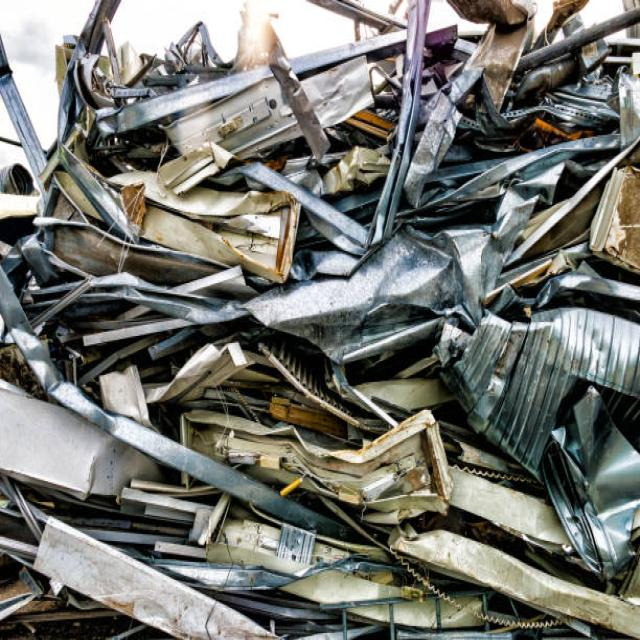metal: (35, 86, 626, 606)
